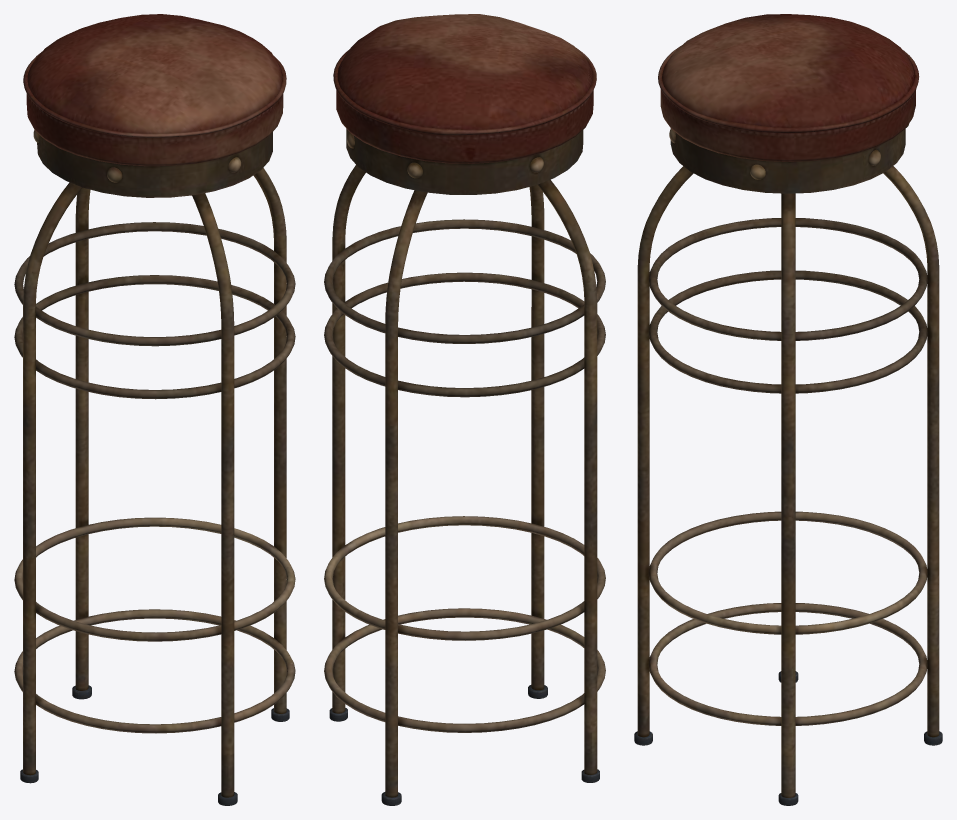
The model's file is metal_stool_01_1k.gltf.
The picture shows the model from 3 angles, left to right: view 1: azimuth 30°, elevation 25°; view 2: azimuth 150°, elevation 25°; view 3: azimuth 270°, elevation 25°; orthographic projection.
Parts seen in each view (by area): view 1: metal_stool_01; view 2: metal_stool_01; view 3: metal_stool_01.
Boxes of the visible parts, <box> form: metal_stool_01: <box>14,14,295,805</box>; metal_stool_01: <box>324,14,605,805</box>; metal_stool_01: <box>634,14,942,805</box>.
Size of the model in its own units: 0.352 by 0.8828 by 0.3546.
1 material, 1 textured.
